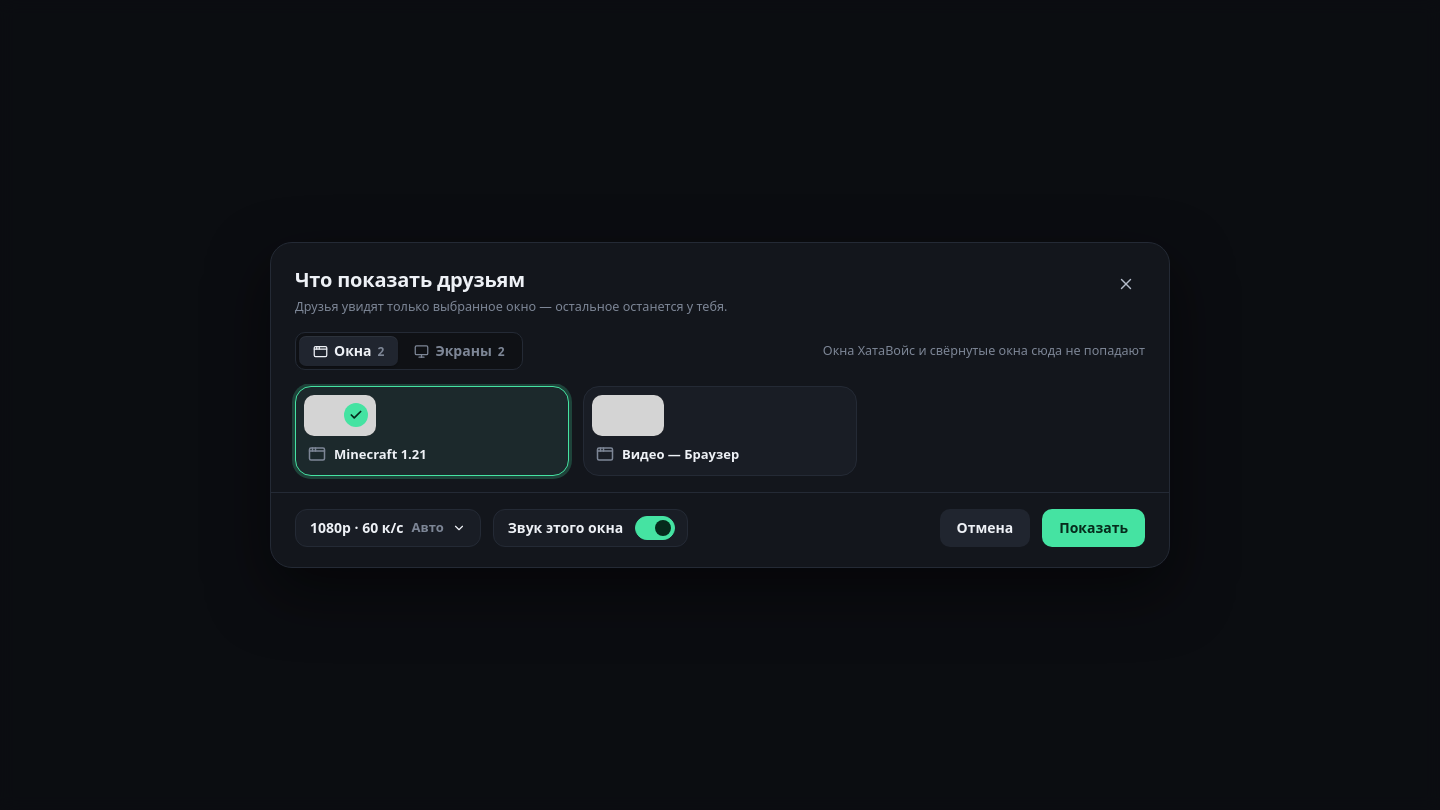
Test: our own screen picker › on the screens' tab the main screen is picked and the sound is the computer's
Later steps or results of the test are not shown.
Expected: the switch named "Звук этого окна" is shown, [635,516,675,540]
Click the tab "Экраны 2" at (460, 352), box [400,336,519,366]
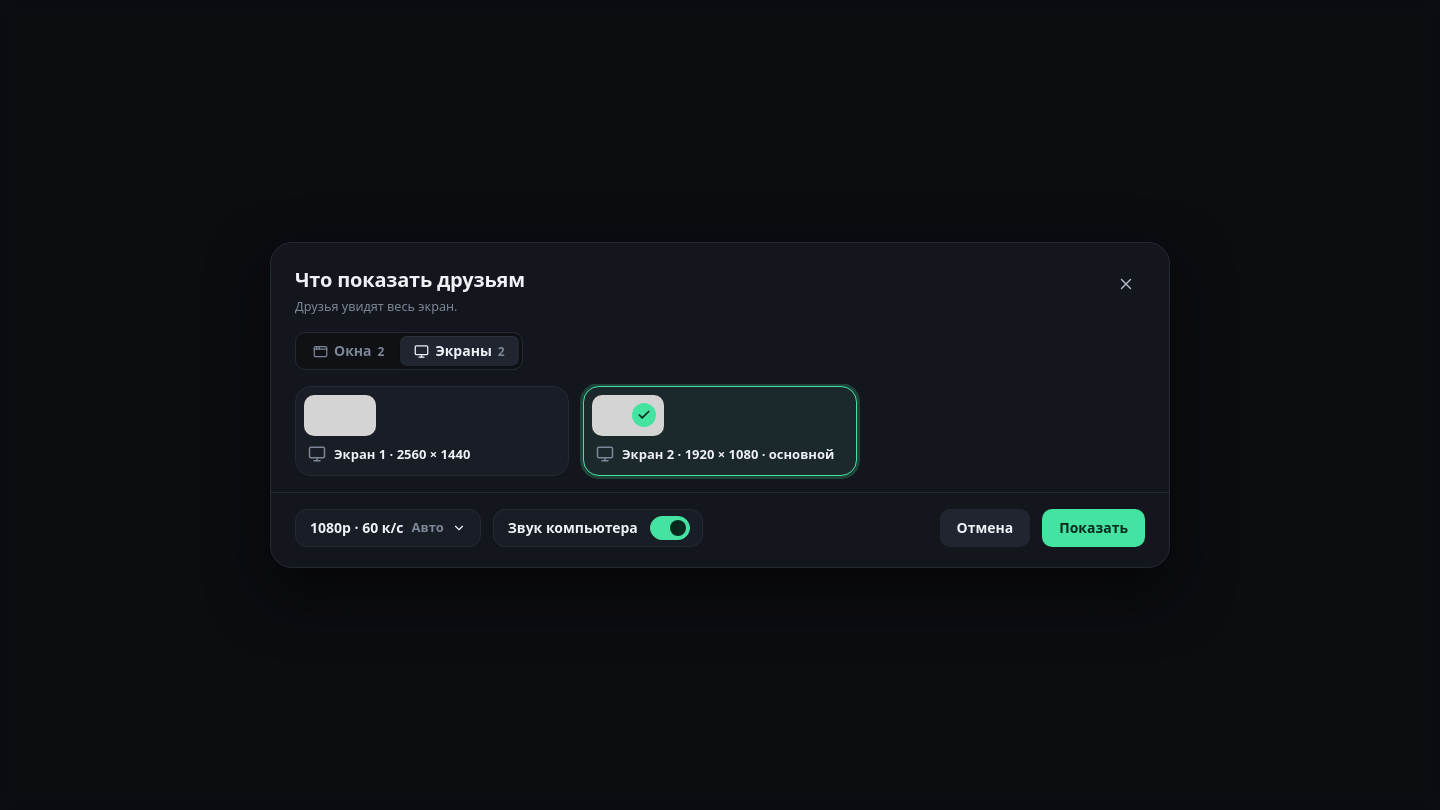
Expected: the option "Экран 2 · 1920 × 1080 · основной" is shown, [583,386,857,476]
Expected: the switch named "Звук компьютера" is shown, [650,516,690,540]
